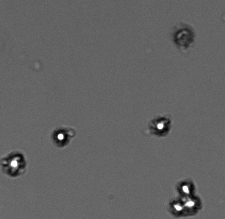Dead Cell: (172, 24, 194, 47)
Living Cell: (171, 194, 198, 214), (4, 151, 24, 175), (149, 115, 170, 137), (50, 128, 72, 145), (175, 178, 195, 196)
